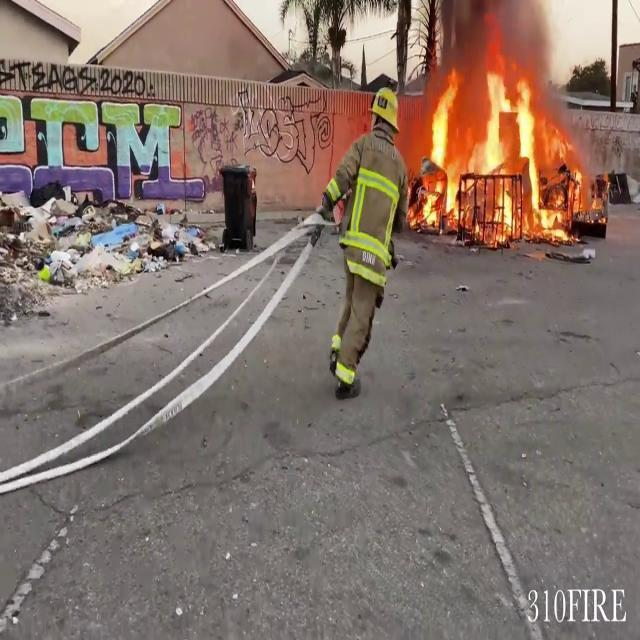Fire: (416, 49, 588, 248)
Smoke: (438, 0, 572, 82)
